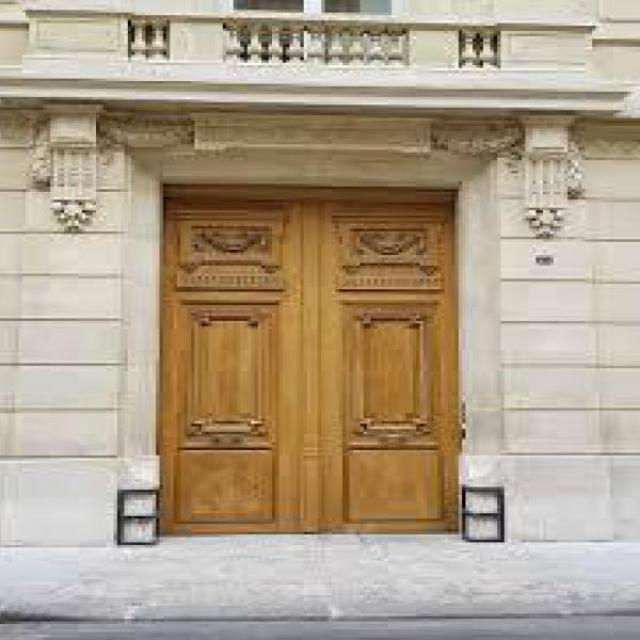door: (156, 186, 310, 534), (314, 183, 458, 534)
